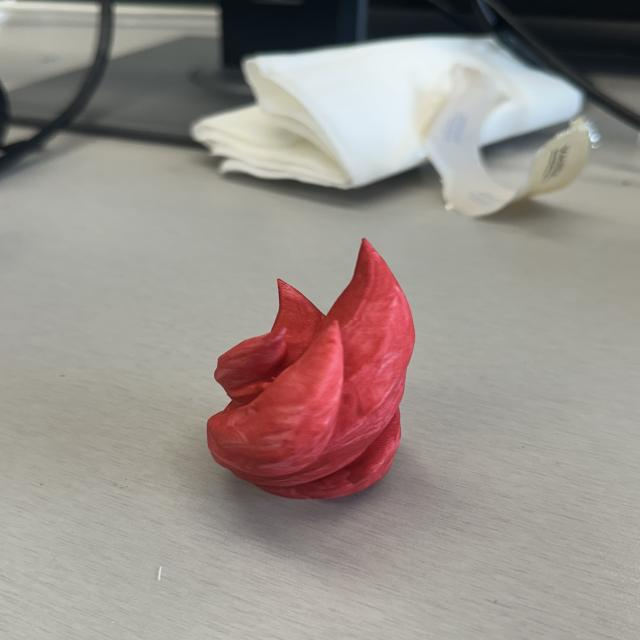fire: (205, 238, 419, 500)
